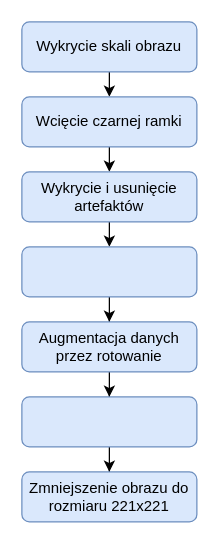
The diagram is 219 pixels wide and 544 high, and some of its shapes have lost their labels. Each missing label, with the centre of its shape:
"Normalizacja obrazu" belongs at (x=109, y=271).
"Wycinanie kwadratowego obrazu bez ramki powstałej po rotowaniu" belongs at (x=109, y=421).
